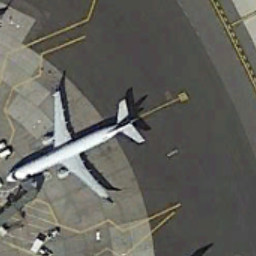Airplane: (2, 77, 155, 214)
